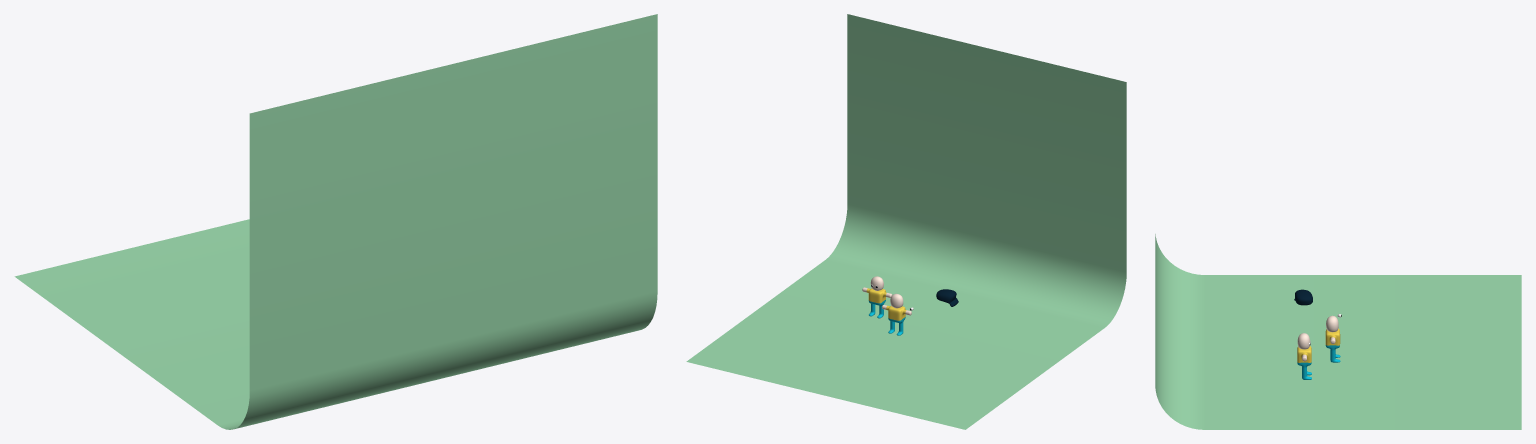
The model's file is udin_man.glb.
3 renders of one model, left to right at view 1: azimuth 30°, elevation 25°; view 2: azimuth 150°, elevation 25°; view 3: azimuth 270°, elevation 25°, orthographic. The views are drawn at different scales.
Visible parts, largest first — view 1: Plane; view 2: Plane, Cube.001, Cube; view 3: Plane, Cube.001, Cube.
Boxes of the visible parts, x1,y1,x2,y2 form: Plane: (14,14,657,429); Plane: (686,14,1126,429); Cube.001: (882,293,911,335); Cube: (862,276,892,318); Plane: (1155,234,1521,429); Cube.001: (1325,315,1340,362); Cube: (1297,333,1311,379).
Size of the model in its own units: 58.46 by 46.1 by 58.46.
